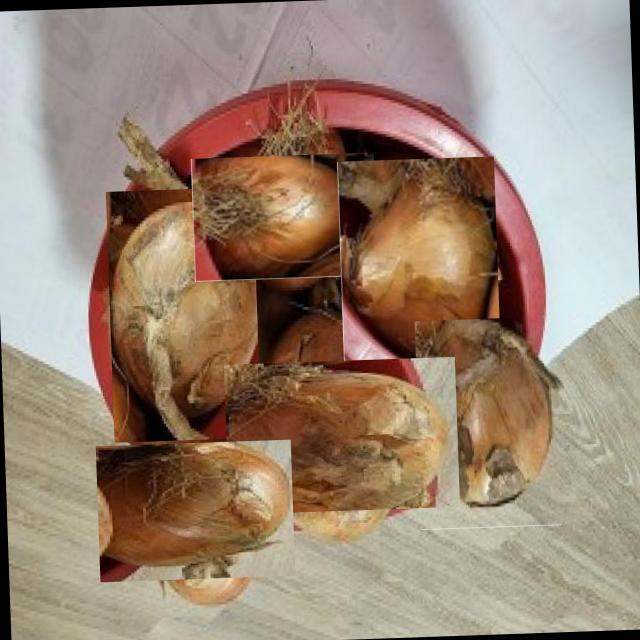Onion: (104, 186, 261, 443), (242, 336, 440, 534), (337, 156, 500, 362), (414, 316, 561, 530), (109, 425, 281, 596), (205, 137, 363, 296)
